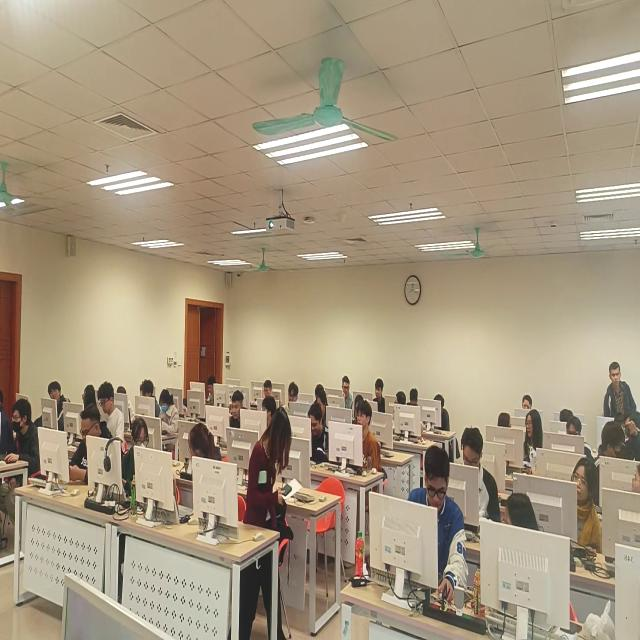raise_head: (570, 455, 600, 550), (355, 400, 382, 476), (47, 378, 69, 435), (284, 378, 301, 418), (340, 376, 356, 410)
stand: (245, 400, 296, 640), (602, 361, 640, 423)
using_computer: (410, 442, 470, 594), (461, 426, 503, 519), (3, 397, 41, 480), (309, 400, 332, 463), (102, 379, 127, 435), (567, 415, 599, 458), (159, 390, 181, 437), (229, 389, 246, 432), (435, 392, 452, 434), (140, 381, 159, 418), (316, 383, 330, 420), (374, 376, 387, 415), (204, 376, 218, 406), (83, 381, 97, 409), (557, 404, 575, 425), (522, 390, 534, 411), (262, 376, 273, 398), (393, 388, 406, 406), (411, 384, 419, 408)
using_phone: (64, 402, 114, 487)
